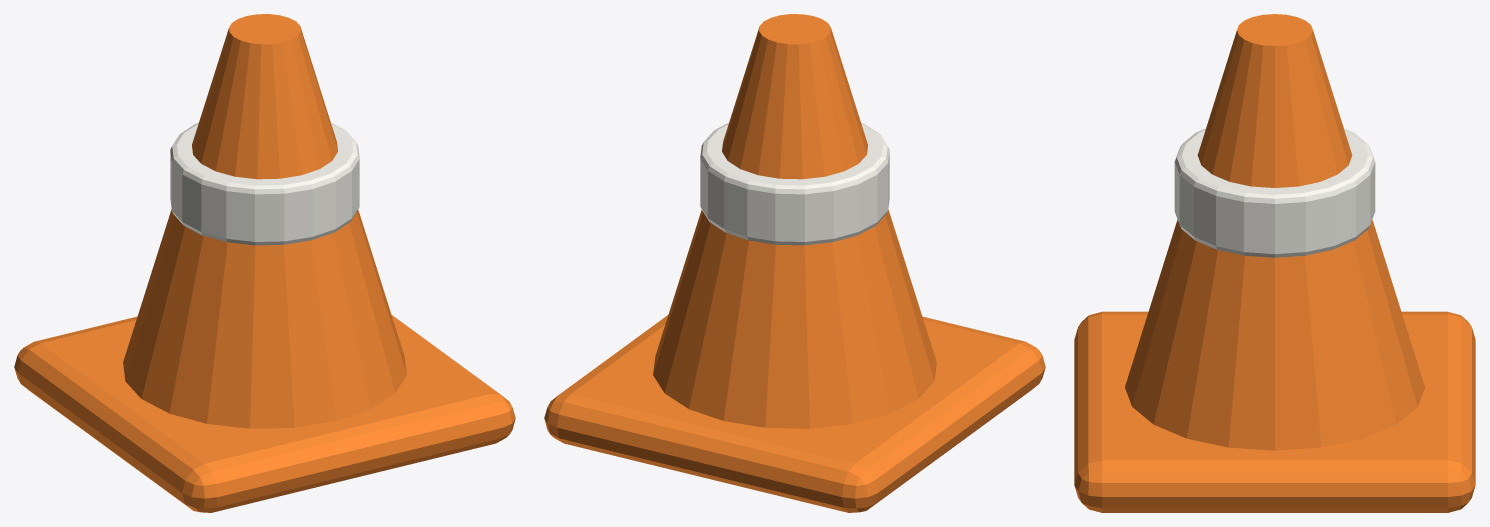
File: track_cone.glb
3 views of the same model, side by side, from view 1: azimuth 30°, elevation 25°; view 2: azimuth 150°, elevation 25°; view 3: azimuth 270°, elevation 25° (orthographic). The views are drawn at different scales.
Visible parts, largest first — view 1: Cone, Base, Band; view 2: Cone, Base, Band; view 3: Cone, Base, Band.
Part boxes in pixels (box(x1,y1,x2,y2)): Cone: box(123, 14, 406, 428); Base: box(14, 315, 515, 512); Band: box(170, 122, 359, 245); Cone: box(653, 14, 936, 428); Base: box(544, 315, 1045, 512); Band: box(700, 122, 889, 245); Cone: box(1125, 14, 1424, 450); Base: box(1074, 311, 1475, 512); Band: box(1174, 128, 1375, 257).
Bounding box in the file's own units: 0.58 × 0.65 × 0.58.
